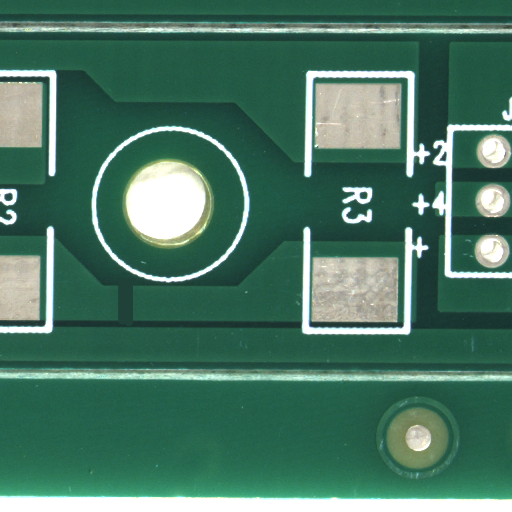Open_circuit: (126, 304, 147, 350)
